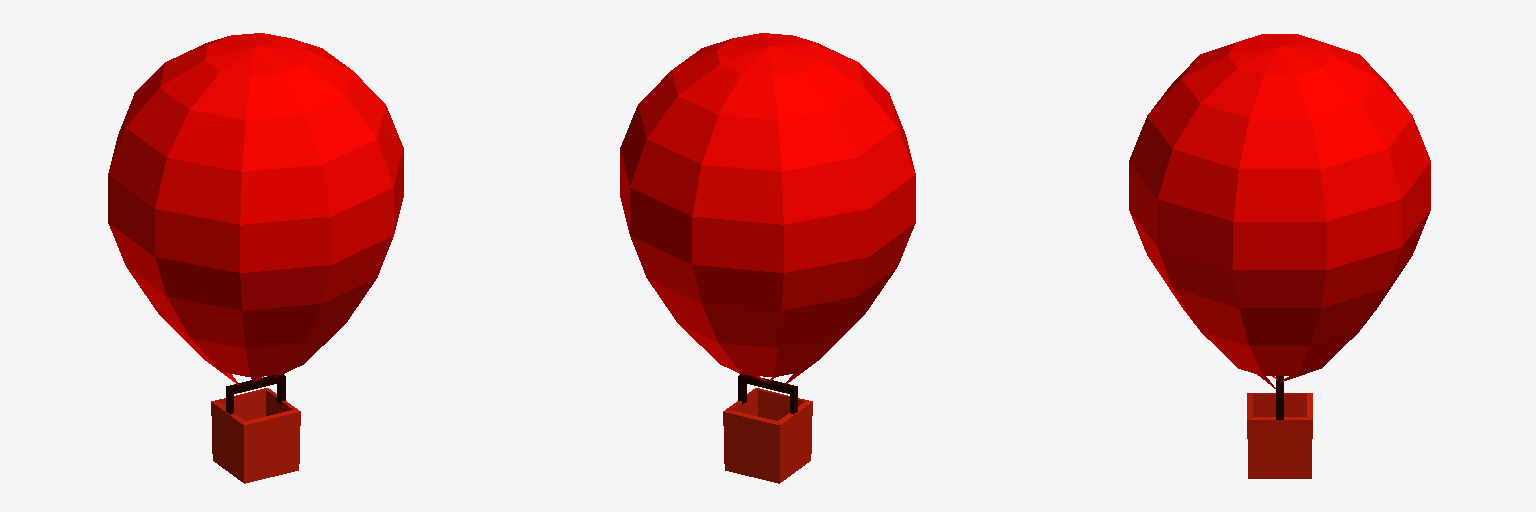
The model's file is balloon.obj.
3 views of the same model, side by side, from view 1: azimuth 30°, elevation 25°; view 2: azimuth 150°, elevation 25°; view 3: azimuth 270°, elevation 25° (orthographic).
Parts seen in each view (by area): view 1: Sphere_Sphere.001, Cube_Cube.001, Cube.001_Cube.002; view 2: Sphere_Sphere.001, Cube_Cube.001, Cube.001_Cube.002; view 3: Sphere_Sphere.001, Cube_Cube.001.
Boxes of the visible parts, x1=… form: Sphere_Sphere.001: x1=108, y1=33, x2=403, y2=384; Cube_Cube.001: x1=211, y1=388, x2=300, y2=483; Cube.001_Cube.002: x1=226, y1=375, x2=280, y2=414; Sphere_Sphere.001: x1=620, y1=33, x2=915, y2=384; Cube_Cube.001: x1=723, y1=388, x2=812, y2=483; Cube.001_Cube.002: x1=743, y1=375, x2=797, y2=414; Sphere_Sphere.001: x1=1129, y1=34, x2=1430, y2=388; Cube_Cube.001: x1=1247, y1=393, x2=1312, y2=478.
Size of the model in its own units: 3.05 by 4.91 by 3.21.